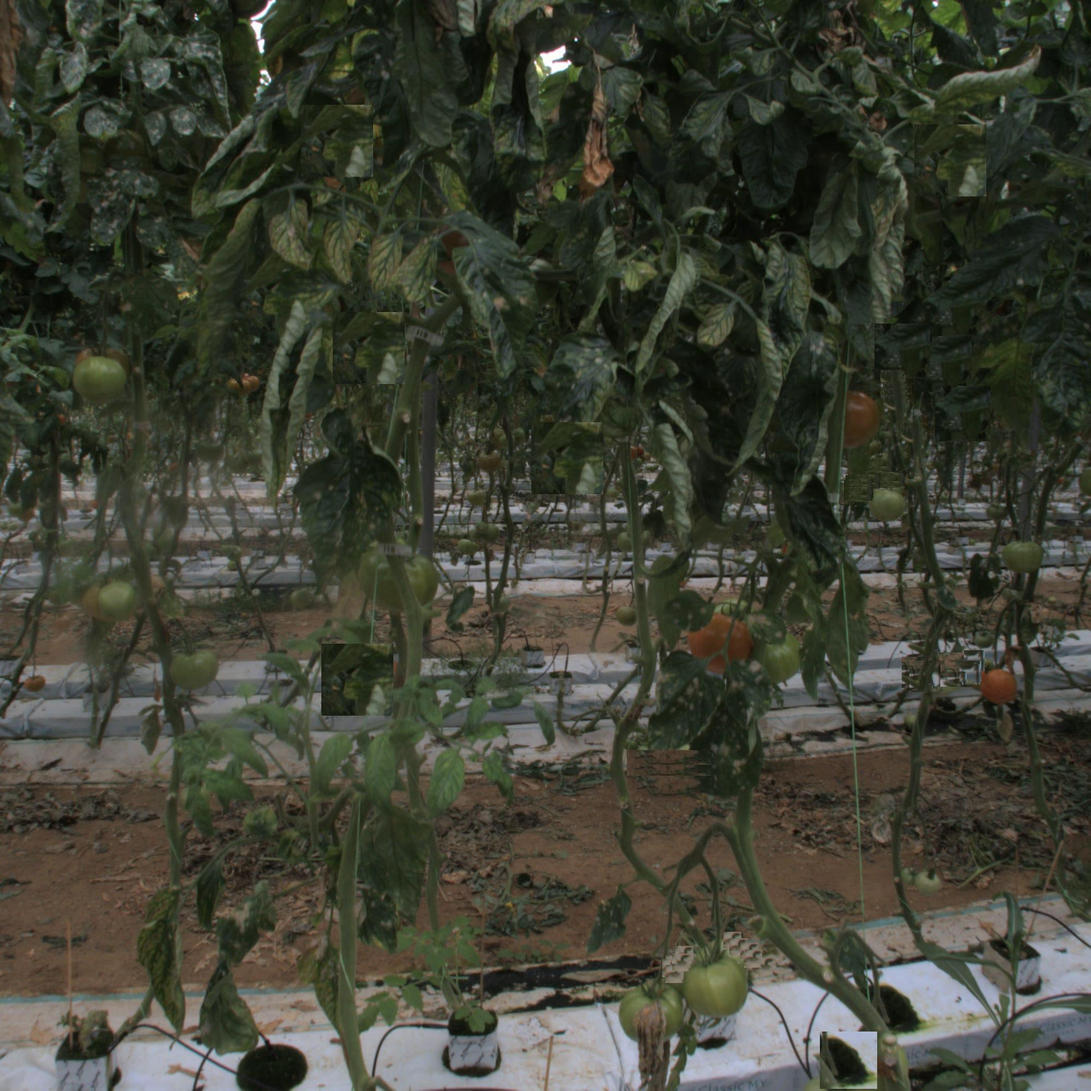fully-ripe: (693, 618, 747, 672), (980, 667, 1015, 702)
semi-ripe: (829, 395, 884, 449)
unripe: (363, 539, 441, 617), (686, 950, 750, 1015), (620, 978, 684, 1042), (76, 357, 130, 411), (754, 634, 799, 679), (174, 646, 219, 691), (96, 582, 136, 622), (1007, 539, 1043, 576), (871, 490, 905, 524)
